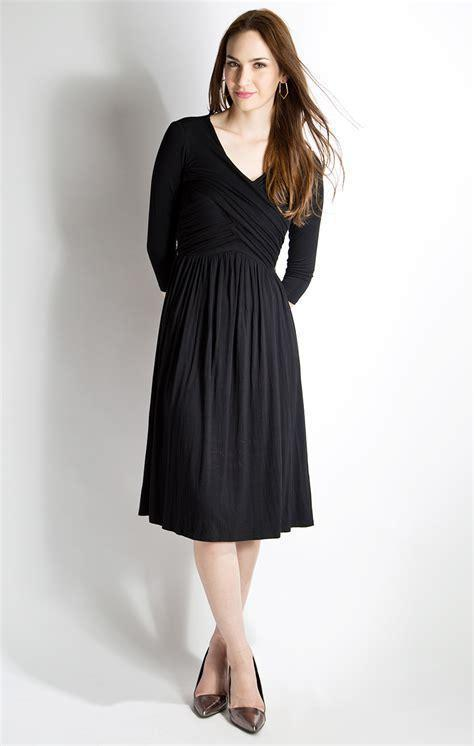dress: (137, 114, 324, 543)
